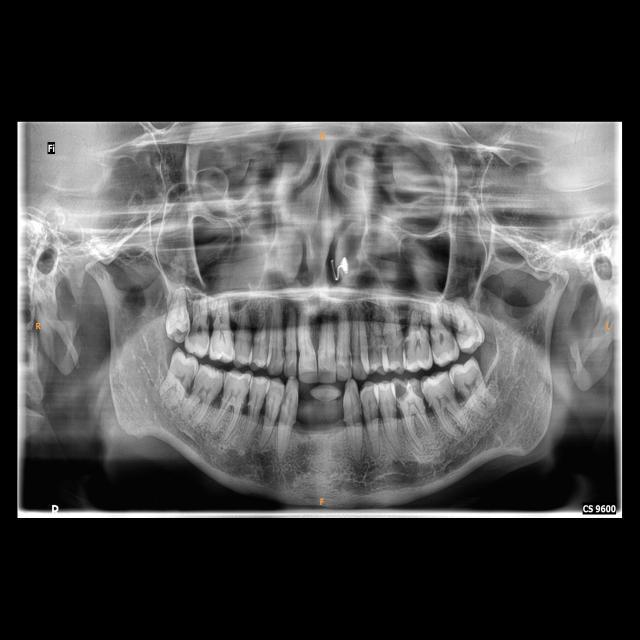dentin-curugu: (410, 378, 424, 401), (395, 379, 409, 401), (188, 320, 199, 343)
